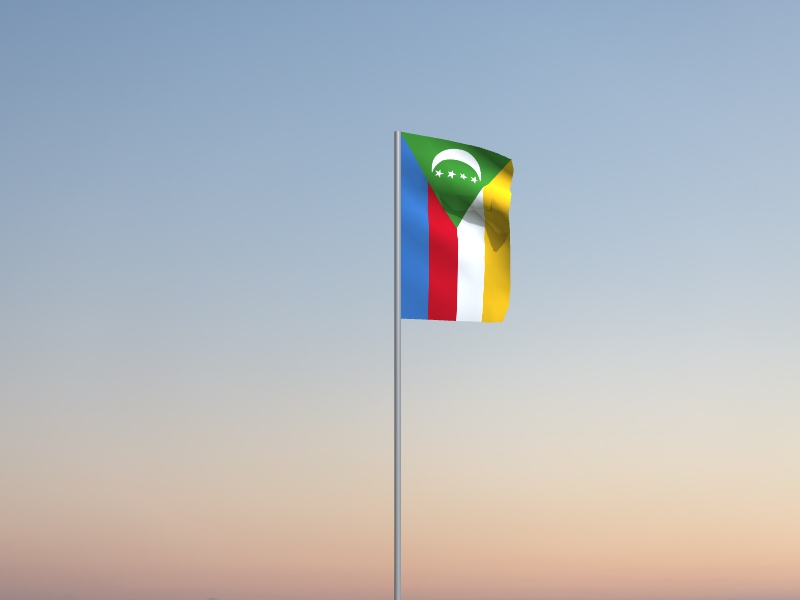km: (402, 132, 516, 325)
